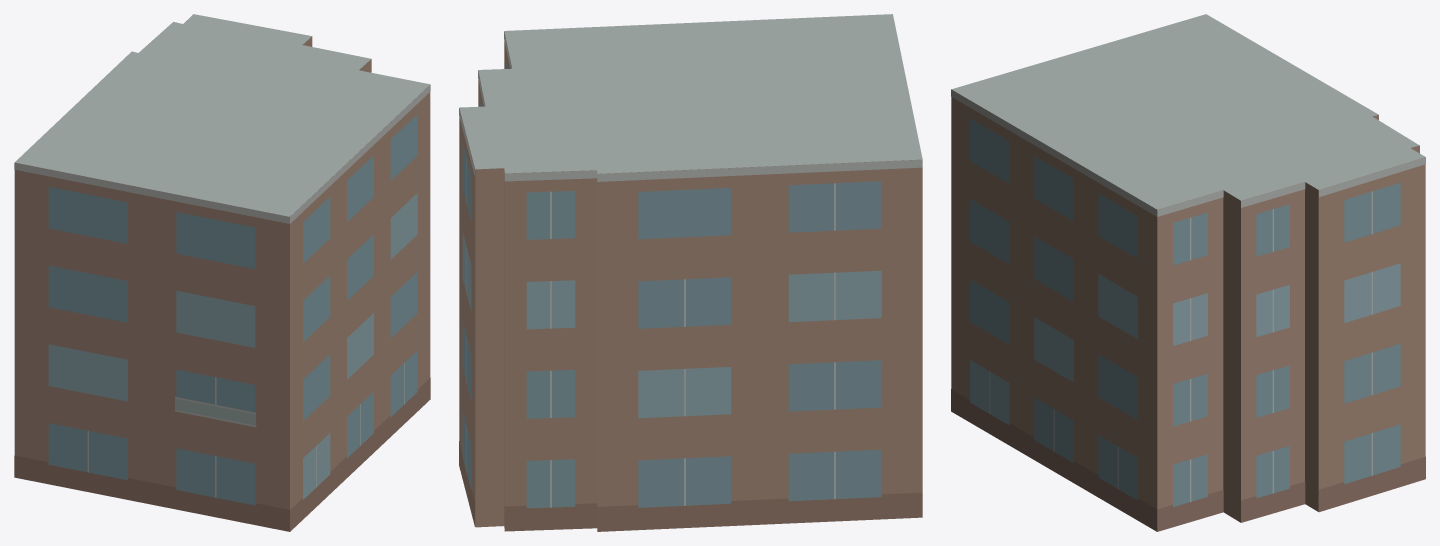
Rendered from survey-upis-32516884.glb.
3 views of the same model, side by side, from view 1: azimuth 30°, elevation 25°; view 2: azimuth 150°, elevation 25°; view 3: azimuth 270°, elevation 25° (orthographic). The views are drawn at different scales.
Parts seen in each view (by area): view 1: survey-upis-32516884.tmp; view 2: survey-upis-32516884.tmp; view 3: survey-upis-32516884.tmp.
Part boxes in pixels (x1,y1,x2,y2): survey-upis-32516884.tmp: (14, 14, 430, 531); survey-upis-32516884.tmp: (459, 14, 922, 531); survey-upis-32516884.tmp: (951, 14, 1425, 531).
Bounding box in the file's own units: 14.08 × 10.8 × 14.42.
